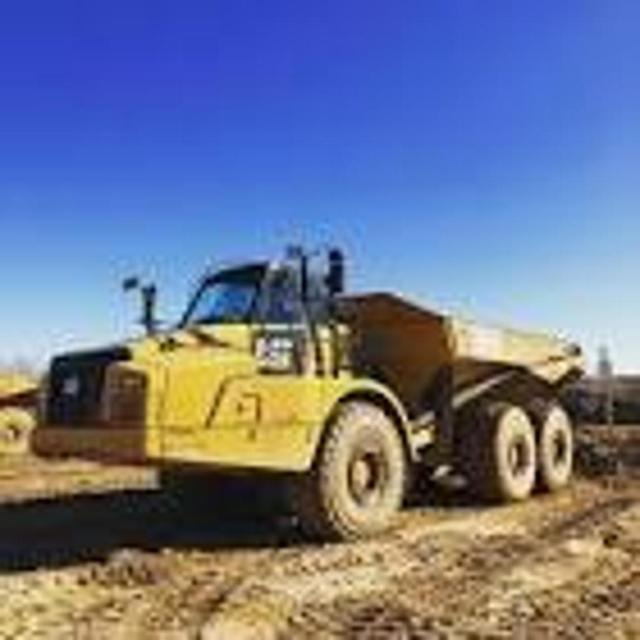dump_truck: (31, 235, 589, 540)
